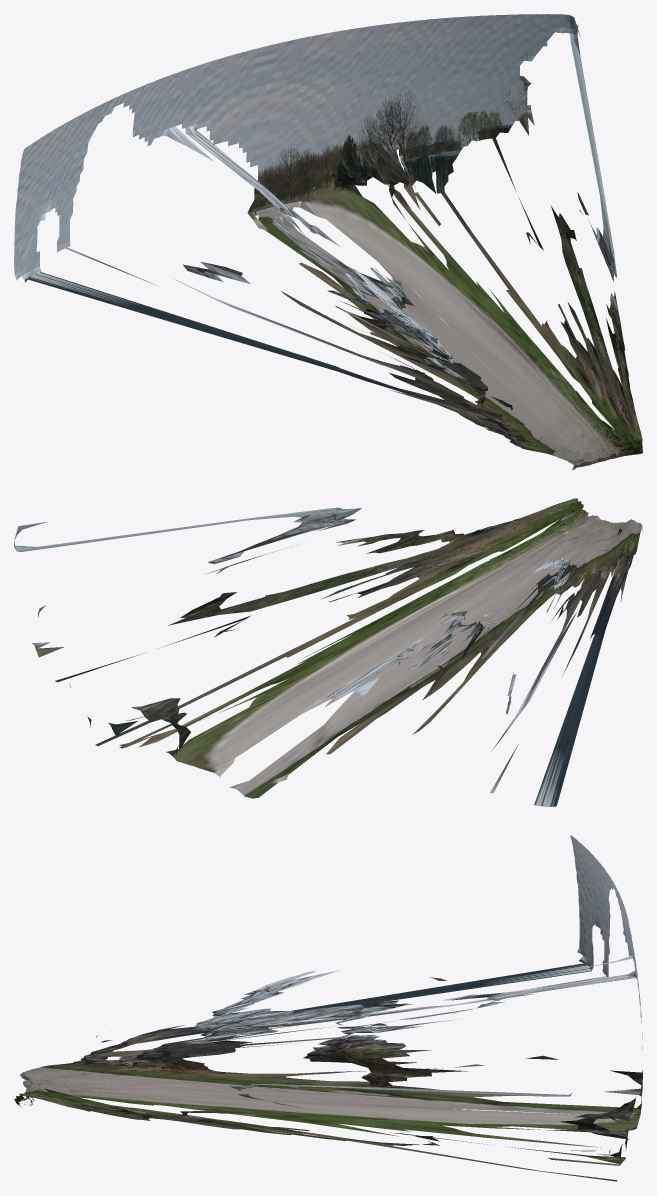
The picture shows the model from 3 angles, top to bottom: view 1: azimuth 30°, elevation 25°; view 2: azimuth 150°, elevation 25°; view 3: azimuth 270°, elevation 25°; orthographic projection. The views are drawn at different scales.
Visible parts, largest first — view 1: defaultobject; view 2: defaultobject; view 3: defaultobject.
Part boxes in pixels (left/top/right/bottom): defaultobject: left=14, top=14, right=642, bottom=469; defaultobject: left=14, top=498, right=642, bottom=806; defaultobject: left=14, top=835, right=642, bottom=1181.
Size of the model in its own units: 40.8 by 12.86 by 44.71.
Materials: 1 (1 with a texture image).
